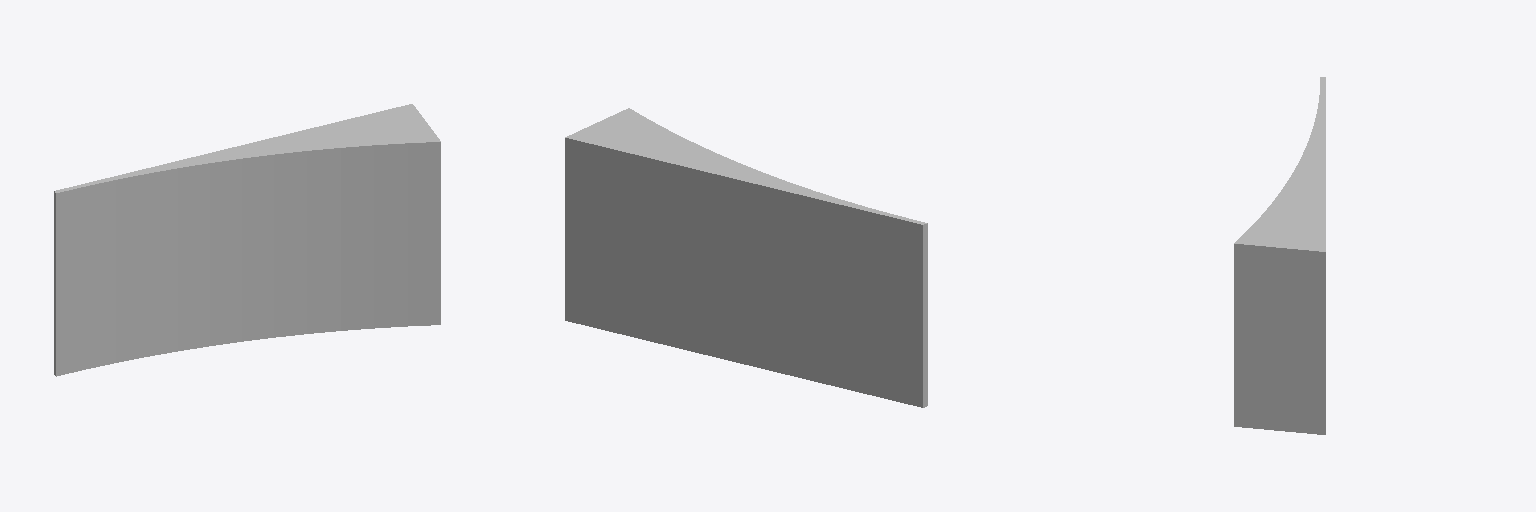
The model's file is original-10.obj.
3 views of the same model, side by side, from view 1: azimuth 30°, elevation 25°; view 2: azimuth 150°, elevation 25°; view 3: azimuth 270°, elevation 25° (orthographic).
Visible parts, largest first — view 1: instance_2/Component_470/ID57#ID57; view 2: instance_2/Component_470/ID57#ID57; view 3: instance_2/Component_470/ID57#ID57.
Part boxes in pixels (x1,y1,x2,y2): instance_2/Component_470/ID57#ID57: (54, 104, 440, 376); instance_2/Component_470/ID57#ID57: (565, 108, 927, 407); instance_2/Component_470/ID57#ID57: (1234, 77, 1325, 434).
Size of the model in its own units: 0.7109 by 0.346 by 0.1589.